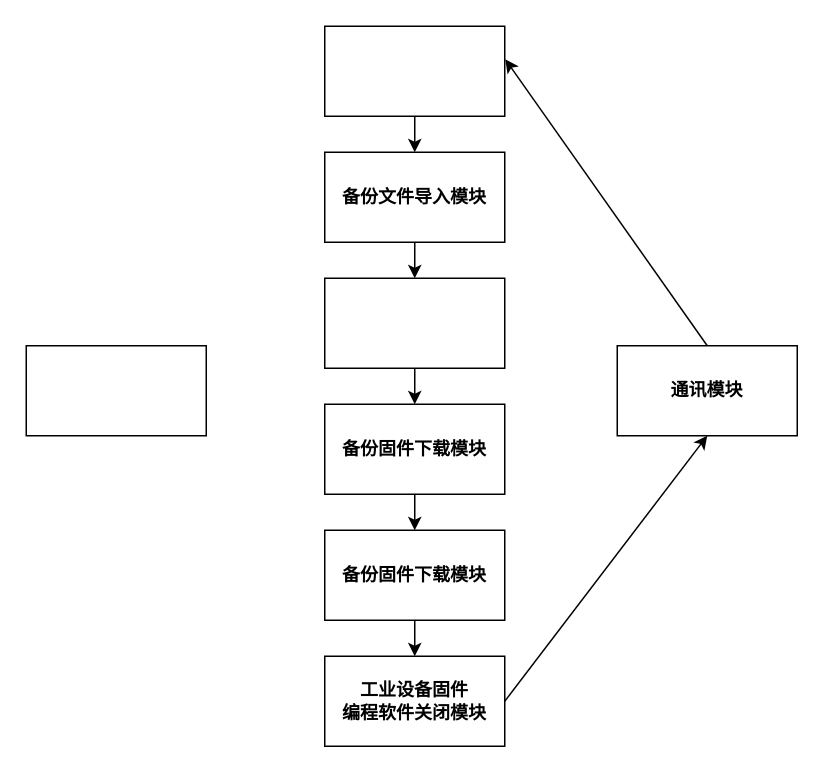
Image size: 824x773. Some labels were removed from this diagram. The shapes that lost their labels are listed below. From the top down, each one's centre as x and y in pixels, then its label:
the point at 414,70: 工业设备固件 编程软件启动模块
the point at 414,322: 工业设备固件 连接模块
the point at 115,390: 故障检测模块
